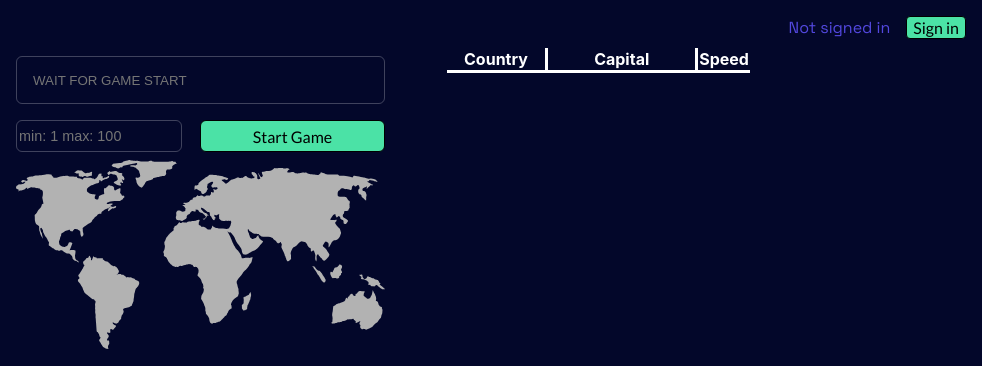
Test: Disable the input element after all the quests been answered
Click the button "Start Game" at (292,136), box x1=200 y1=120 x2=385 y2=152
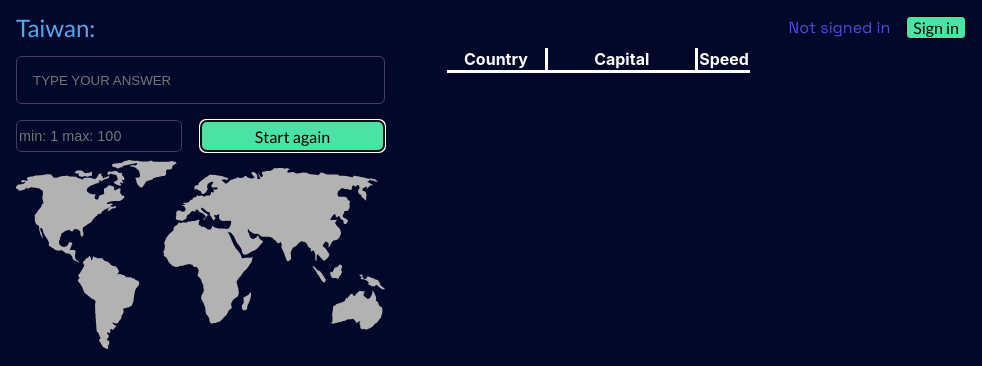
Type "Taipei" into the field with test id "answer-input" at (200,80), box x1=16 y1=56 x2=385 y2=104
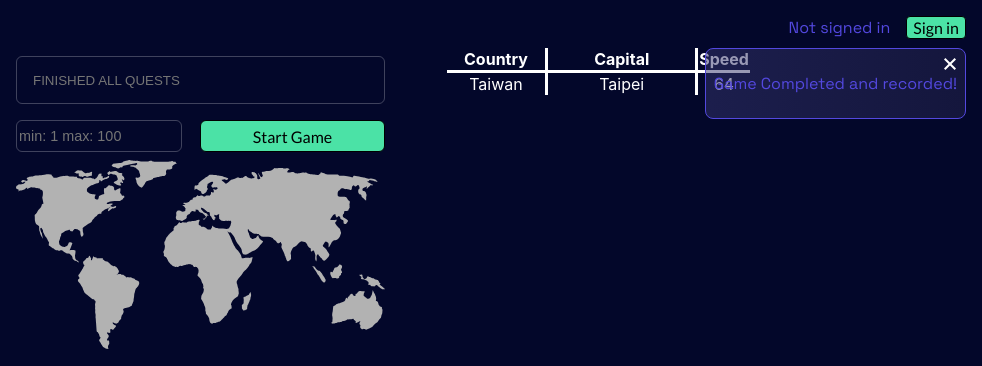
Now the field with test id "answer-input" is disabled, box x1=16 y1=56 x2=385 y2=104
